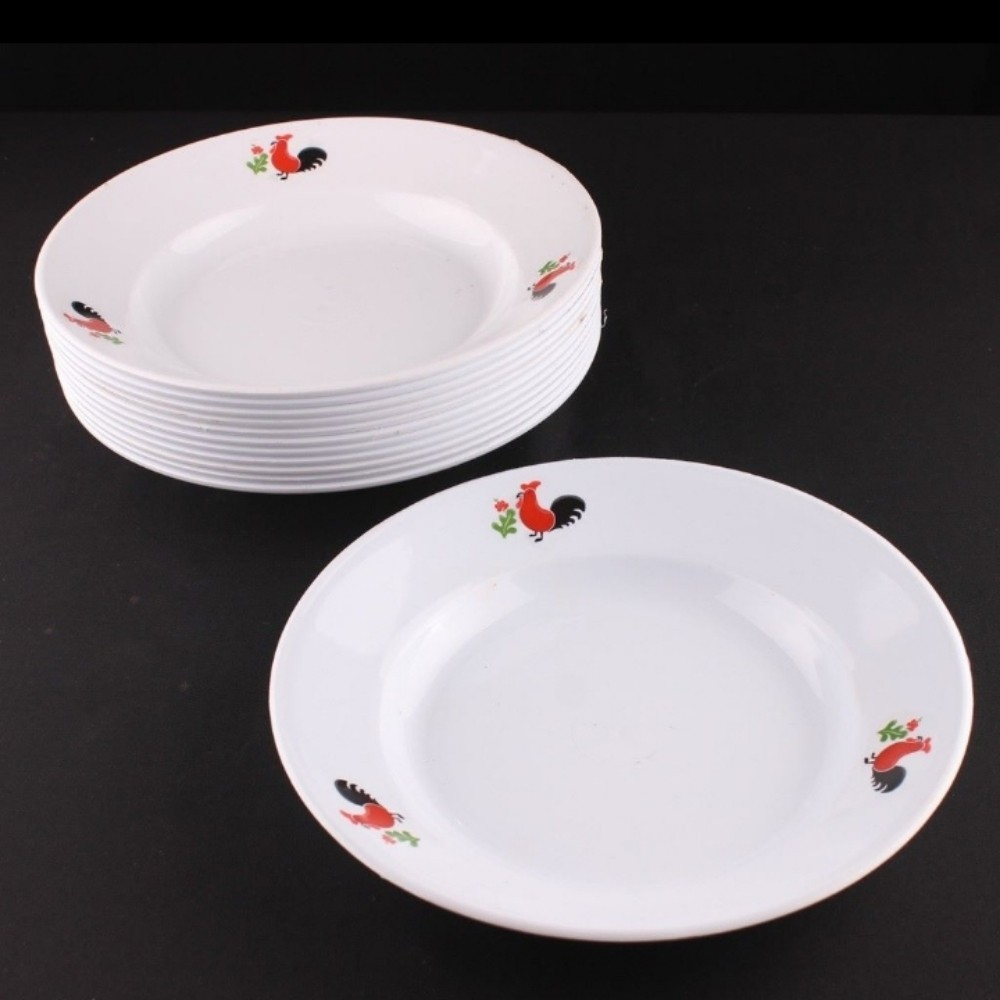piring: (35, 117, 606, 485)
